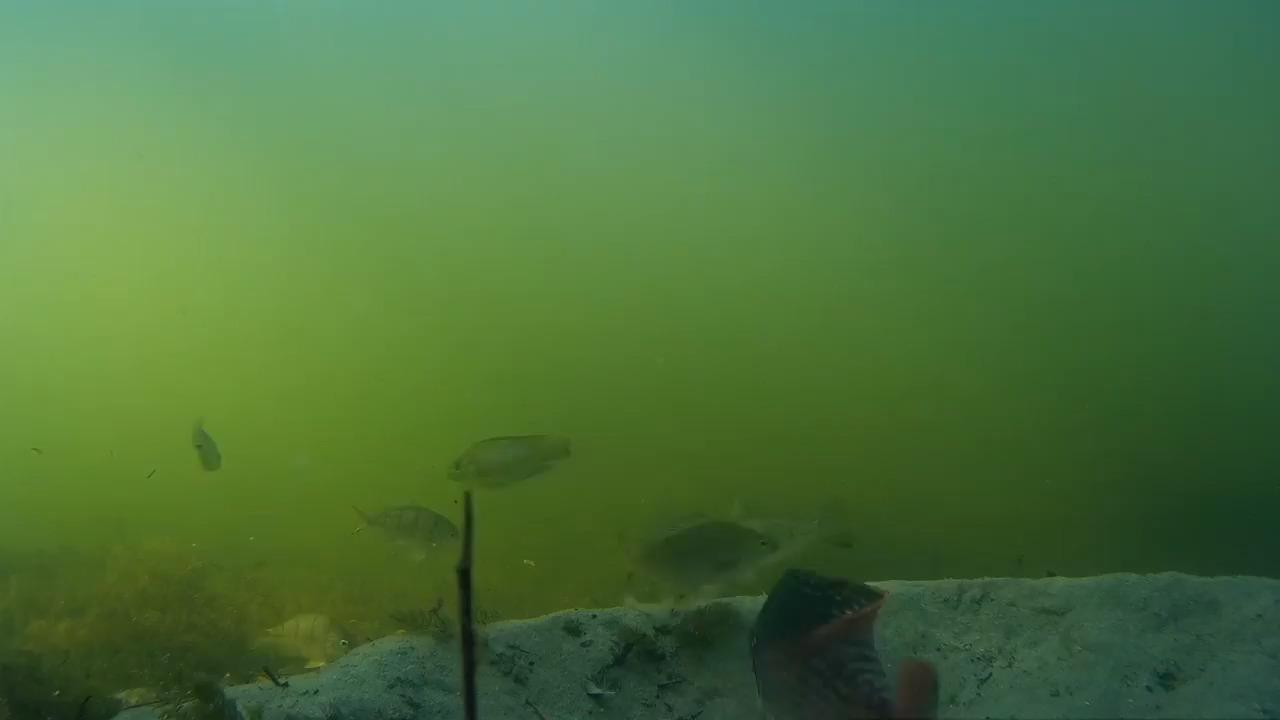Tilapia: (749, 564, 970, 720), (338, 480, 481, 592), (236, 598, 391, 682), (426, 416, 575, 502), (645, 502, 790, 578), (169, 420, 236, 472)
